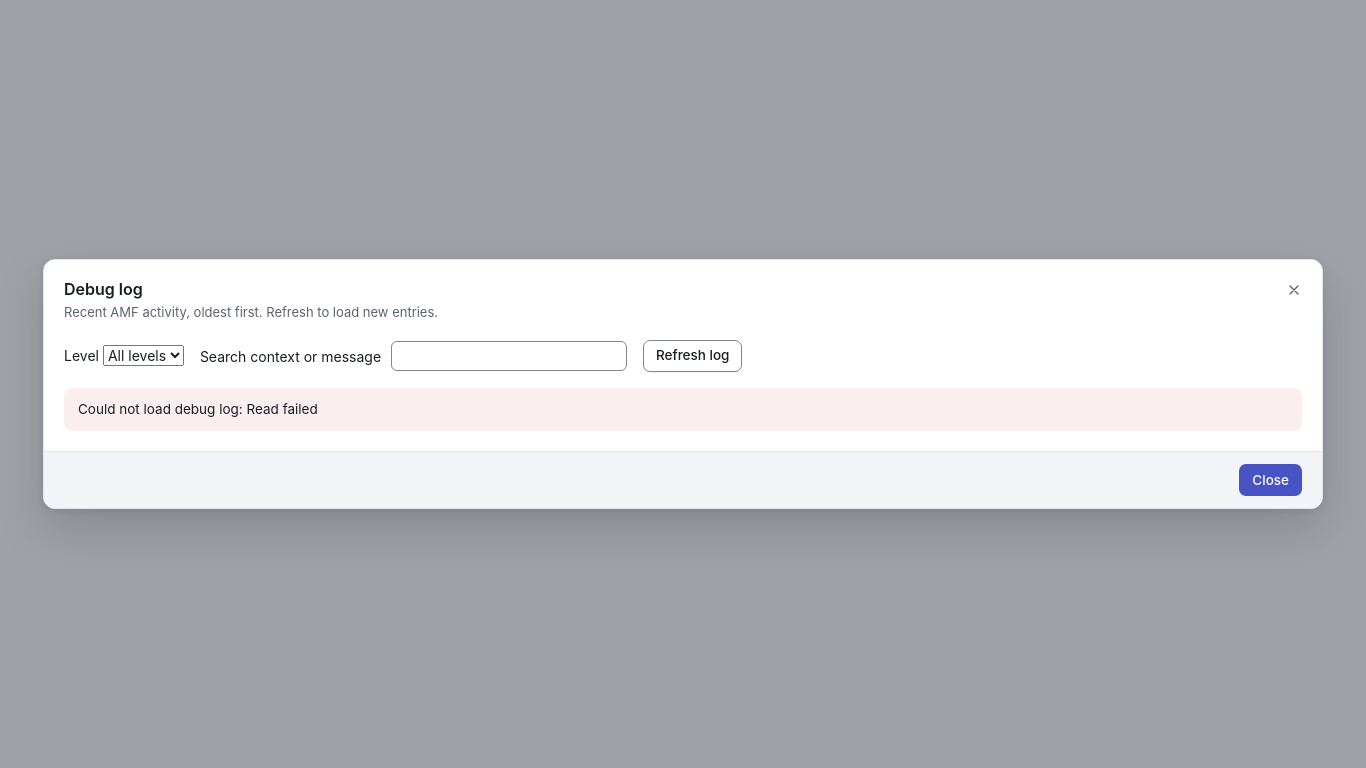
Test: hides cached history when this opening fails and loads it only after retry
Expected: the message "Could not load debug log: Read failed" is shown, [64,388,1302,431]
Expected: the text "Pane attached" is not shown
Click the button "Refresh log": (693, 356) [643,340,742,372]
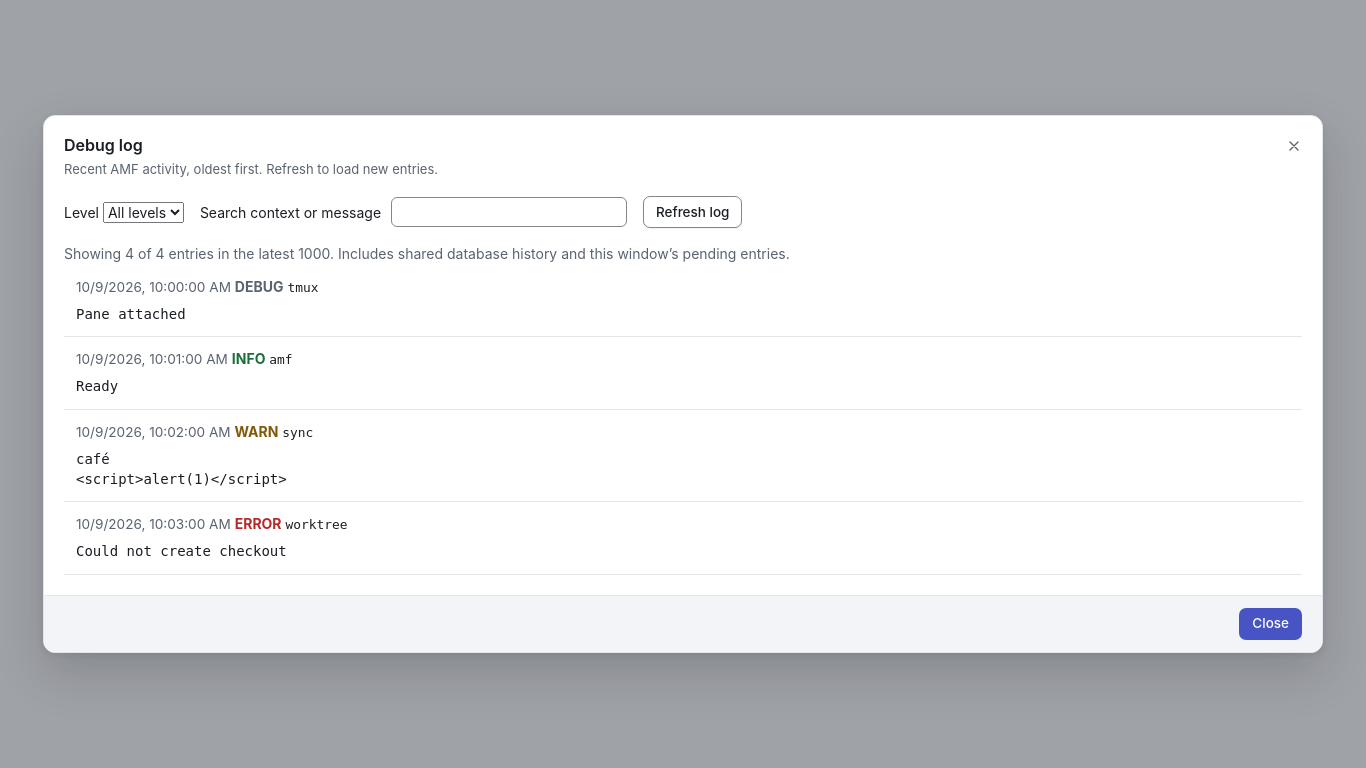
Now the text "Pane attached" is shown, box [76,306,186,322]
